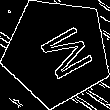M_SW: (24, 19, 90, 84)
